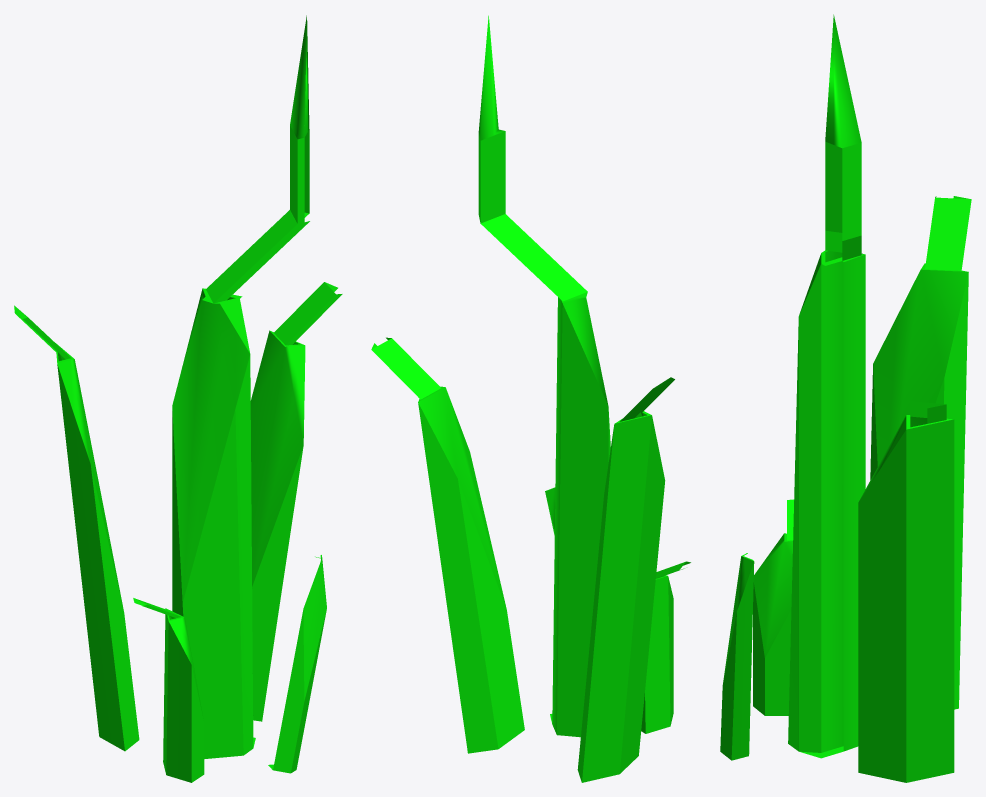
Rendered from Grass.obj.
3 renders of one model, left to right at view 1: azimuth 30°, elevation 25°; view 2: azimuth 150°, elevation 25°; view 3: azimuth 270°, elevation 25°, orthographic. The views are drawn at different scales.
Parts seen in each view (by area): view 1: pCylinder1, pCylinder2 pCylinder4, pCylinder5, pCylinder3; view 2: pCylinder1, pCylinder2 pCylinder4, pCylinder5; view 3: pCylinder1, pCylinder2 pCylinder4, pCylinder5, pCylinder3.
Part boxes in pixels (bbox=[...]): pCylinder1: bbox=[172, 15, 309, 758]; pCylinder2 pCylinder4: bbox=[133, 282, 342, 782]; pCylinder5: bbox=[14, 305, 139, 751]; pCylinder3: bbox=[268, 555, 326, 773]; pCylinder1: bbox=[478, 15, 610, 737]; pCylinder2 pCylinder4: bbox=[371, 337, 690, 753]; pCylinder5: bbox=[577, 377, 674, 782]; pCylinder1: bbox=[788, 14, 865, 758]; pCylinder2 pCylinder4: bbox=[753, 401, 954, 782]; pCylinder5: bbox=[870, 196, 971, 709]; pCylinder3: bbox=[720, 553, 754, 760].
Size of the model in its own units: 7.84 by 17.05 by 4.99.
